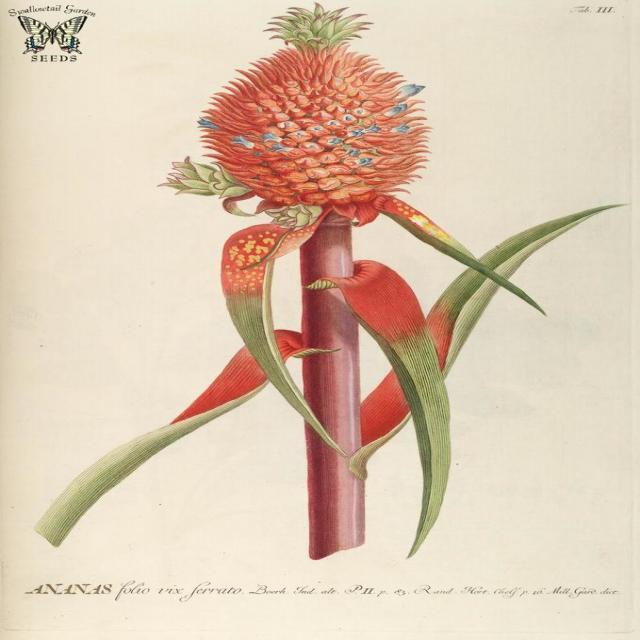Non_Gorille: (8, 4, 640, 640)
